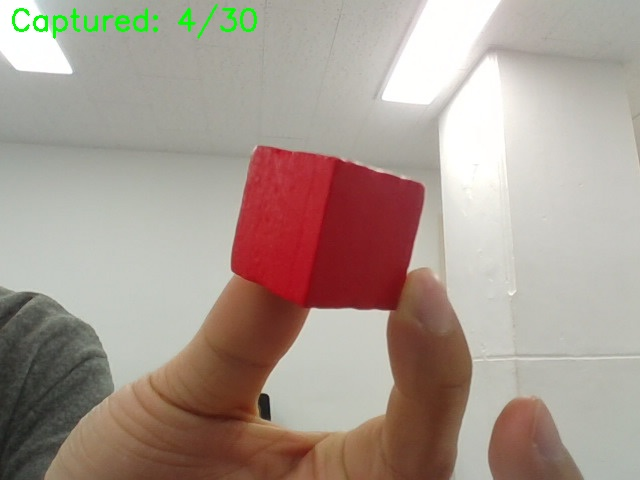Normal: (249, 132, 436, 300)
